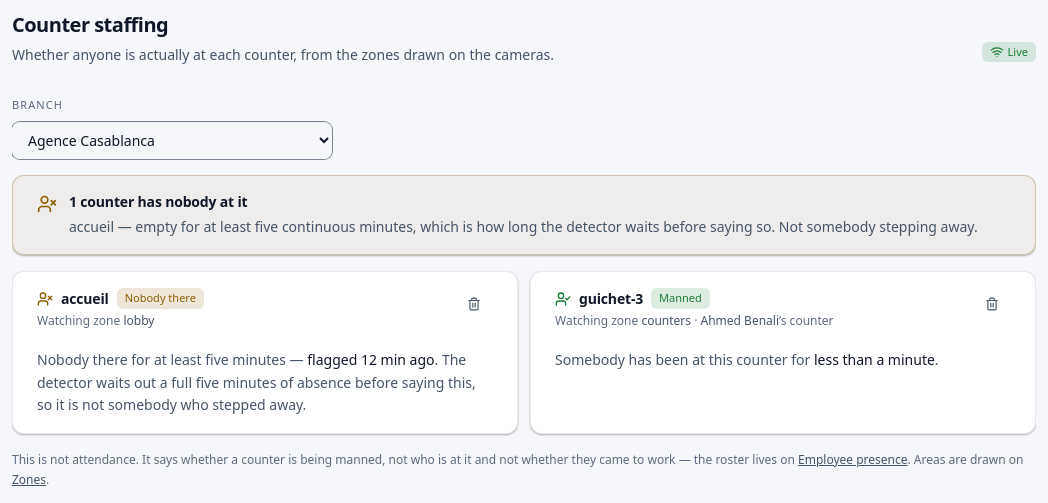
Test case: Staffing › shows an admin the one nothing has ever measured, as a camera problem
The image size is (1048, 503).
Expected: the heading "accueil" is shown, top-left (61, 288), bottom-right (109, 308)
Select "Agence Rabat" in the dropdown labelled "Branch" at [172, 140], box top-left (12, 122), bottom-right (332, 158)
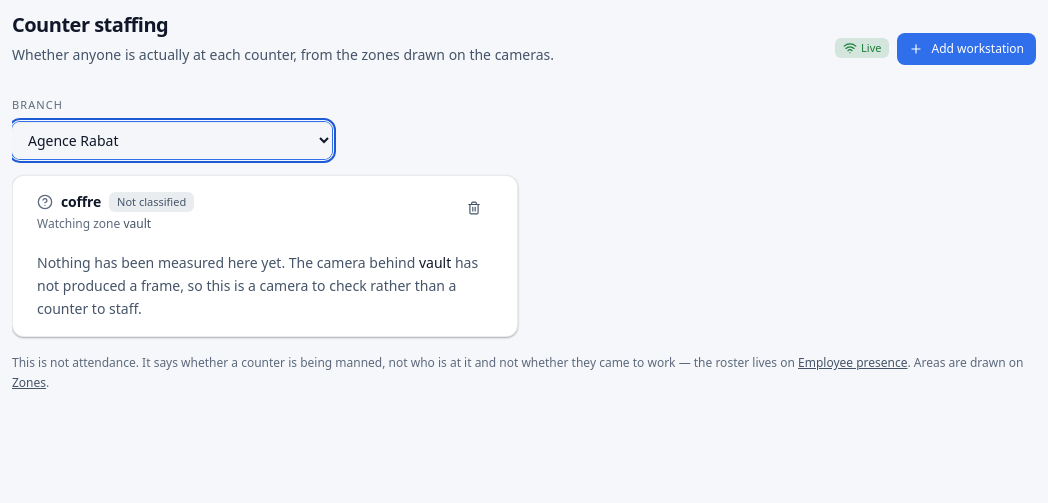
Expected: the heading "coffre" is shown, top-left (61, 192), bottom-right (101, 212)
Expected: the text "Nothing has been measured here yet" is shown, top-left (37, 253), bottom-right (415, 272)
Expected: the text "camera to check rather than a counter to staff" is shown, top-left (37, 253), bottom-right (478, 318)
